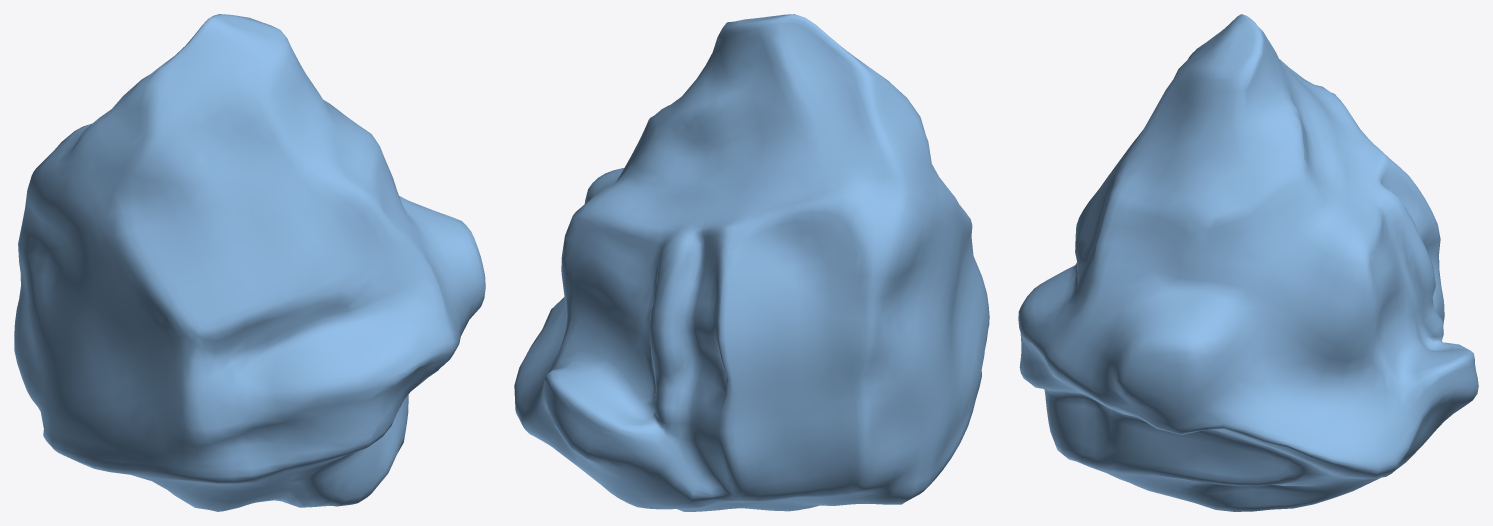
Rendered from Iceburg3.fbx.
3 views of the same model, side by side, from view 1: azimuth 30°, elevation 25°; view 2: azimuth 150°, elevation 25°; view 3: azimuth 270°, elevation 25° (orthographic). The views are drawn at different scales.
Visible parts, largest first — view 1: Retopo_Iceburg3_high.; view 2: Retopo_Iceburg3_high.; view 3: Retopo_Iceburg3_high..
Part boxes in pixels (x1,y1,x2,y2): Retopo_Iceburg3_high.: [14, 14, 485, 511]; Retopo_Iceburg3_high.: [514, 14, 989, 511]; Retopo_Iceburg3_high.: [1018, 14, 1478, 511].
Bounding box in the file's own units: 237 × 282 × 262.
